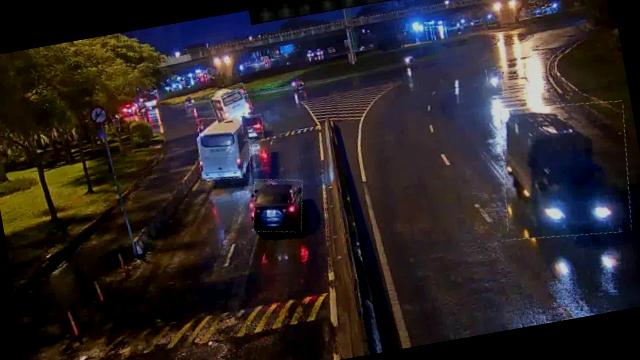Bike: (484, 66, 504, 98)
Bus: (194, 112, 256, 182), (209, 82, 253, 122)
Car: (248, 173, 308, 236), (240, 113, 264, 141)
Truck: (490, 91, 640, 247)
